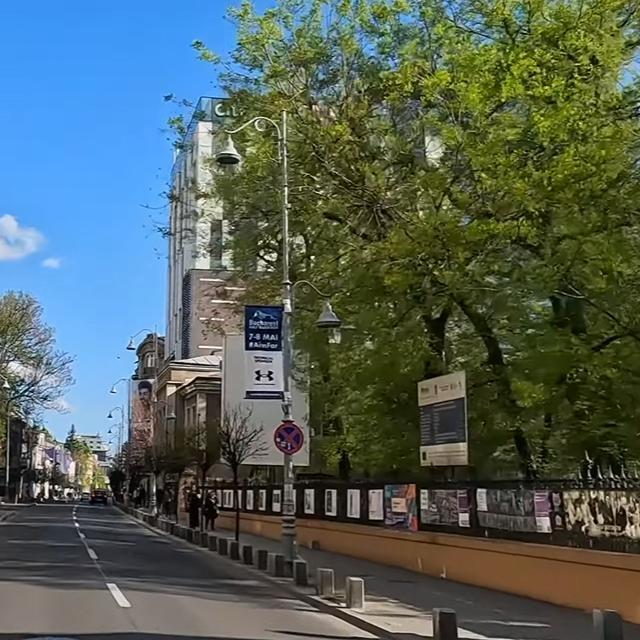forb_waiting: (274, 421, 304, 455)
